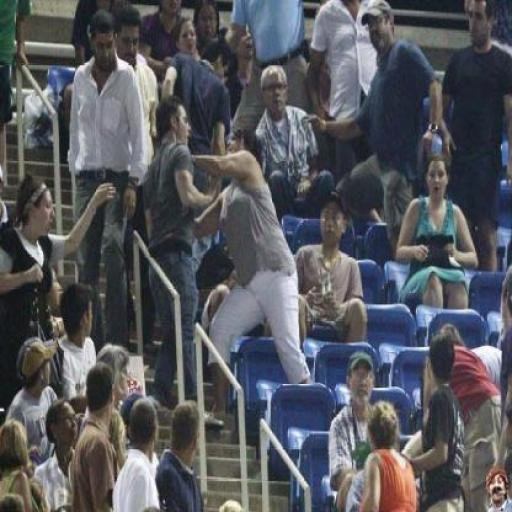Fighting: (131, 100, 333, 429)
